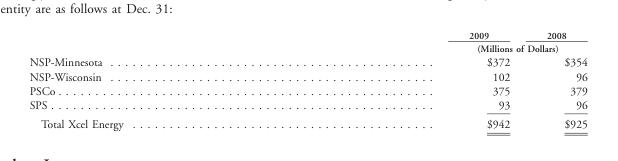table: (28, 29, 586, 130)
table column: (28, 29, 295, 130), (295, 29, 527, 130), (527, 29, 586, 130)
table column header: (28, 29, 586, 54)
table row: (28, 97, 586, 114), (28, 114, 586, 130), (28, 54, 586, 69), (28, 69, 586, 83), (28, 83, 586, 97), (28, 41, 586, 54), (28, 29, 586, 41)
table spanning cell: (295, 41, 586, 54)
